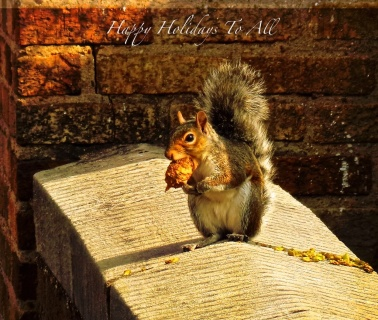Squirrel: (162, 58, 277, 249)
